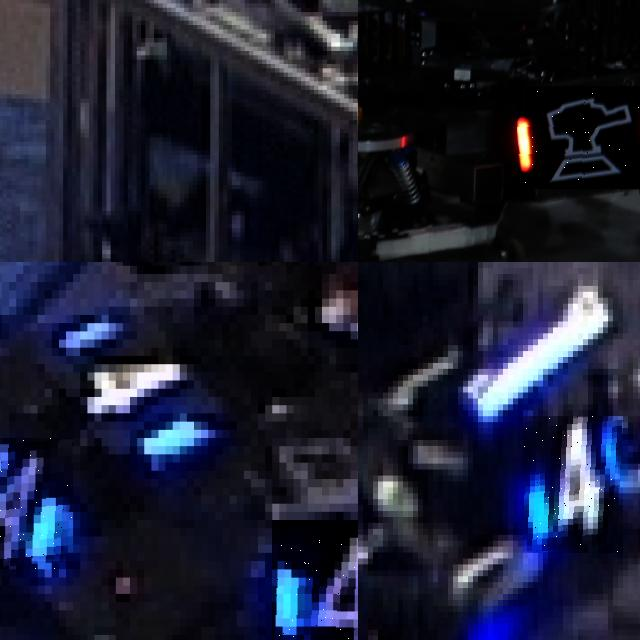B4: (523, 416, 623, 553), (272, 520, 358, 640), (0, 437, 73, 569)
Rs: (516, 86, 640, 188)
